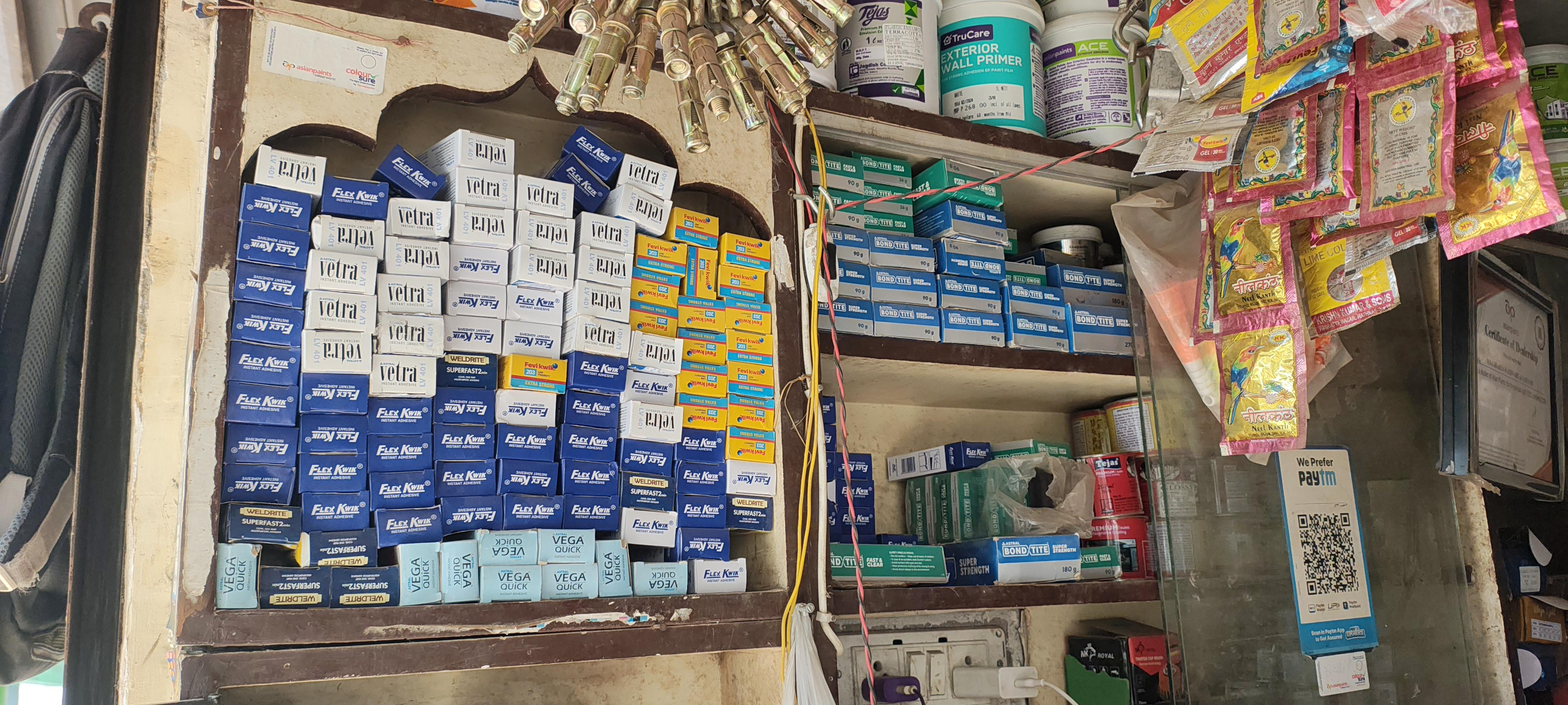BONDTITE_FAST - CLEAR: (828, 543, 948, 586), (950, 468, 991, 541), (808, 152, 864, 194), (928, 473, 960, 543), (852, 152, 912, 188), (814, 187, 864, 228), (905, 477, 932, 543), (1080, 545, 1122, 580), (992, 439, 1069, 458), (864, 199, 913, 215), (864, 182, 909, 198)
BONDTITE_SUPER STRENGTH: (946, 534, 1081, 585), (915, 201, 1007, 244), (1046, 266, 1129, 307), (1068, 306, 1135, 355), (937, 238, 1005, 281), (870, 267, 938, 307), (869, 233, 935, 272), (1004, 280, 1068, 320), (873, 303, 940, 341), (938, 274, 1003, 313), (1007, 313, 1069, 352), (939, 309, 1004, 346), (817, 298, 872, 335), (827, 225, 869, 264), (836, 259, 872, 300)
Fevikwik_203: (499, 355, 566, 393), (630, 260, 683, 307), (663, 207, 720, 248), (635, 234, 690, 275), (719, 233, 771, 271), (684, 246, 720, 299), (726, 426, 776, 463), (718, 264, 764, 303), (678, 330, 727, 366), (728, 394, 776, 430), (677, 371, 727, 405), (678, 296, 725, 332), (727, 330, 775, 365), (727, 362, 775, 397), (679, 396, 727, 431), (724, 300, 773, 333), (630, 302, 676, 337)
VETRA_LV 401: (421, 129, 515, 173), (255, 145, 326, 199), (598, 184, 671, 235), (304, 250, 377, 295), (438, 167, 515, 208), (311, 215, 384, 258), (302, 329, 371, 374), (382, 236, 450, 280), (451, 204, 515, 250), (369, 354, 437, 397), (304, 290, 375, 331), (375, 313, 444, 355), (562, 315, 629, 358), (510, 245, 574, 290), (564, 279, 629, 323), (385, 197, 451, 240), (377, 273, 443, 315), (616, 153, 676, 198), (619, 401, 681, 443), (516, 210, 575, 254), (577, 211, 635, 253), (516, 175, 573, 217), (628, 331, 681, 375), (577, 246, 632, 286)
